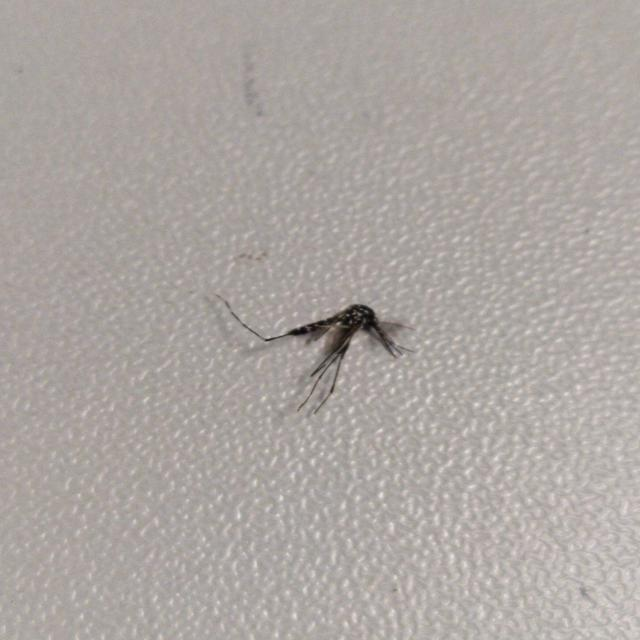albopictus: (207, 283, 424, 417)
